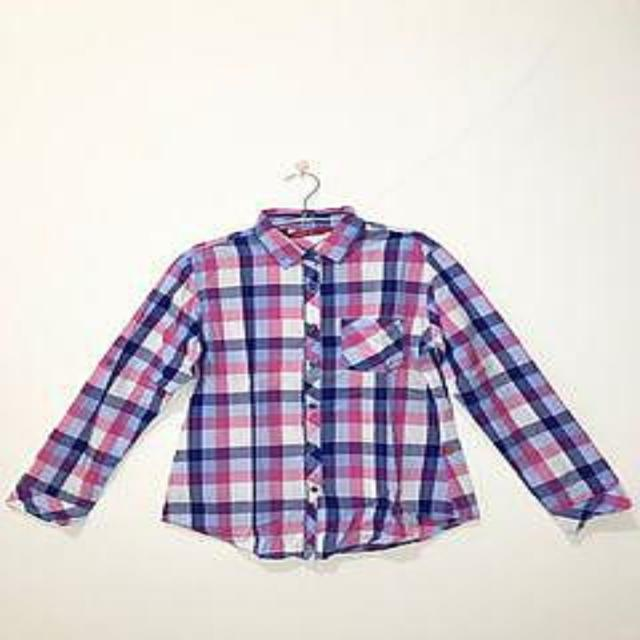SHIRT: (9, 201, 640, 577)
